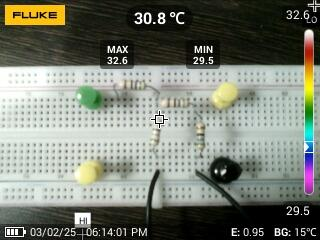resistor: (193, 120, 209, 153), (157, 97, 196, 110), (113, 79, 150, 92), (148, 122, 162, 150)
